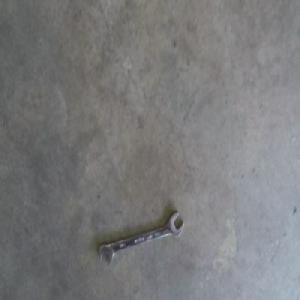Wrench: (99, 213, 184, 270)
